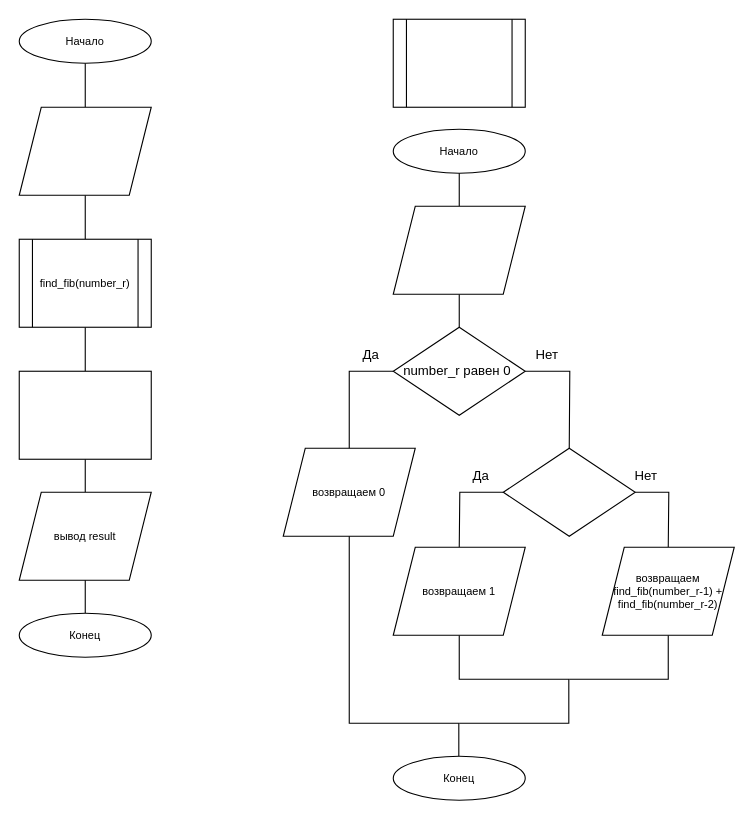
This 754x820 diagram has some shape labels left out. Each missing label, with the centre of its shape:
"finc_fib(number_r)" goes at (x=458, y=62).
"number_r равен 1" goes at (x=568, y=491).
"result = find_fib(number)" goes at (x=84, y=414).
"ввод номера ряда Фибоначчи (number)" goes at (x=84, y=150).
"получаем число number_r" goes at (x=458, y=249).
